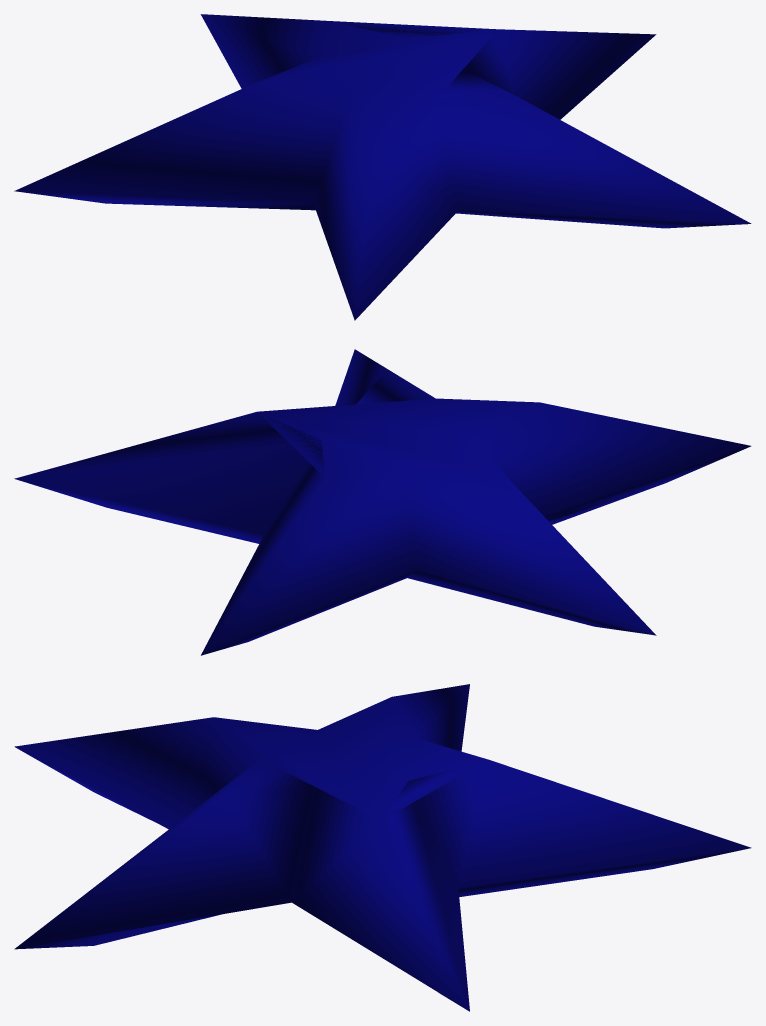
Rendered from estrella.obj.
The picture shows the model from 3 angles, top to bottom: view 1: azimuth 30°, elevation 25°; view 2: azimuth 150°, elevation 25°; view 3: azimuth 270°, elevation 25°; orthographic projection. The views are drawn at different scales.
Visible parts, largest first — view 1: Cylinder; view 2: Cylinder; view 3: Cylinder.
Boxes of the visible parts, x1,y1,x2,y2 form: Cylinder: (14,14,751,320); Cylinder: (14,349,751,655); Cylinder: (14,684,751,1011).
Size of the model in its own units: 17.15 by 2.7 by 16.31.
1 material, 1 textured.
